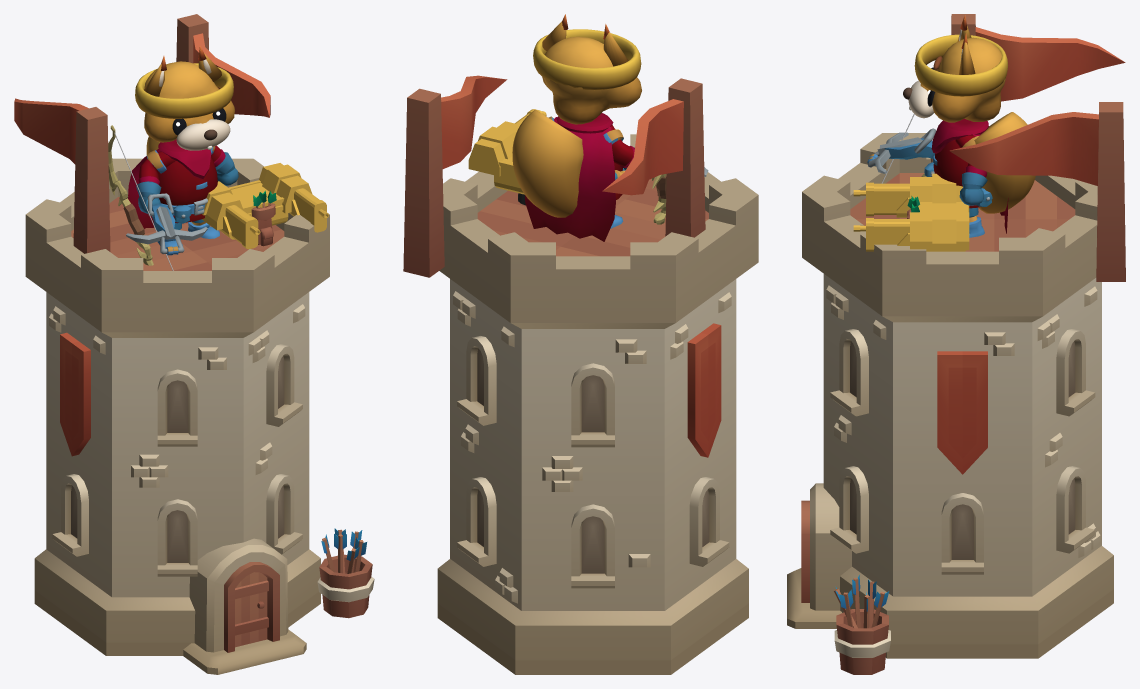
File: tower_squirrel_gatling.glb
The picture shows the model from 3 angles, left to right: view 1: azimuth 30°, elevation 25°; view 2: azimuth 150°, elevation 25°; view 3: azimuth 270°, elevation 25°; orthographic projection. The views are drawn at different scales.
Parts seen in each view (by area): view 1: building_tower_base_red, flag_red, Turret_GunDouble_Top, bucket_arrows, Rogue_Body, flag_red.001, SqHead, NativeHat_SqBand, 1H_Crossbow, Bow_Golden, Rogue_ArmRight, SqMuzzle (+3 smaller); view 2: building_tower_base_red, flag_red.001, flag_red, SqFluffyTail, Rogue_Cape, SqHead, NativeHat_SqBand, Turret_GunDouble_Top, Rogue_Body, Rogue_ArmRight, Bow_Golden; view 3: building_tower_base_red, flag_red.001, Turret_GunDouble_Top, flag_red, bucket_arrows, SqHead, NativeHat_SqBand, Rogue_Body, SqFluffyTail, 1H_Crossbow, Rogue_ArmLeft, SqMuzzle.
Boxes of the visible parts, <box> form: building_tower_base_red: <box>25,158,329,674</box>; flag_red: <box>14,98,110,253</box>; Turret_GunDouble_Top: <box>202,163,328,249</box>; bucket_arrows: <box>317,528,374,618</box>; Rogue_Body: <box>158,139,217,223</box>; flag_red.001: <box>176,14,270,117</box>; SqHead: <box>144,61,234,142</box>; NativeHat_SqBand: <box>135,63,233,118</box>; 1H_Crossbow: <box>126,193,207,255</box>; Bow_Golden: <box>108,125,173,270</box>; Rogue_ArmRight: <box>136,150,175,213</box>; SqMuzzle: <box>176,119,230,150</box>; building_tower_base_red: <box>437,134,758,674</box>; flag_red.001: <box>403,75,507,277</box>; flag_red: <box>602,78,705,237</box>; SqFluffyTail: <box>512,109,583,217</box>; Rogue_Cape: <box>525,117,615,241</box>; SqHead: <box>542,36,641,124</box>; NativeHat_SqBand: <box>533,29,641,90</box>; Turret_GunDouble_Top: <box>468,109,620,205</box>; Rogue_Body: <box>556,113,625,199</box>; Rogue_ArmRight: <box>603,125,634,169</box>; Bow_Golden: <box>652,174,666,224</box>; building_tower_base_red: <box>787,133,1113,658</box>; flag_red.001: <box>949,102,1125,281</box>; Turret_GunDouble_Top: <box>853,173,969,251</box>; flag_red: <box>951,14,1125,101</box>; bucket_arrows: <box>834,575,890,674</box>; SqHead: <box>920,37,1005,122</box>; NativeHat_SqBand: <box>914,34,1008,96</box>; Rogue_Body: <box>924,118,992,208</box>; SqFluffyTail: <box>974,112,1035,213</box>; 1H_Crossbow: <box>867,128,935,173</box>; Rogue_ArmLeft: <box>955,135,987,205</box>; SqMuzzle: <box>908,80,934,118</box>.
Size of the model in its own units: 1.16 by 2.35 by 1.24.
Materials: 15 (7 with a texture image).
